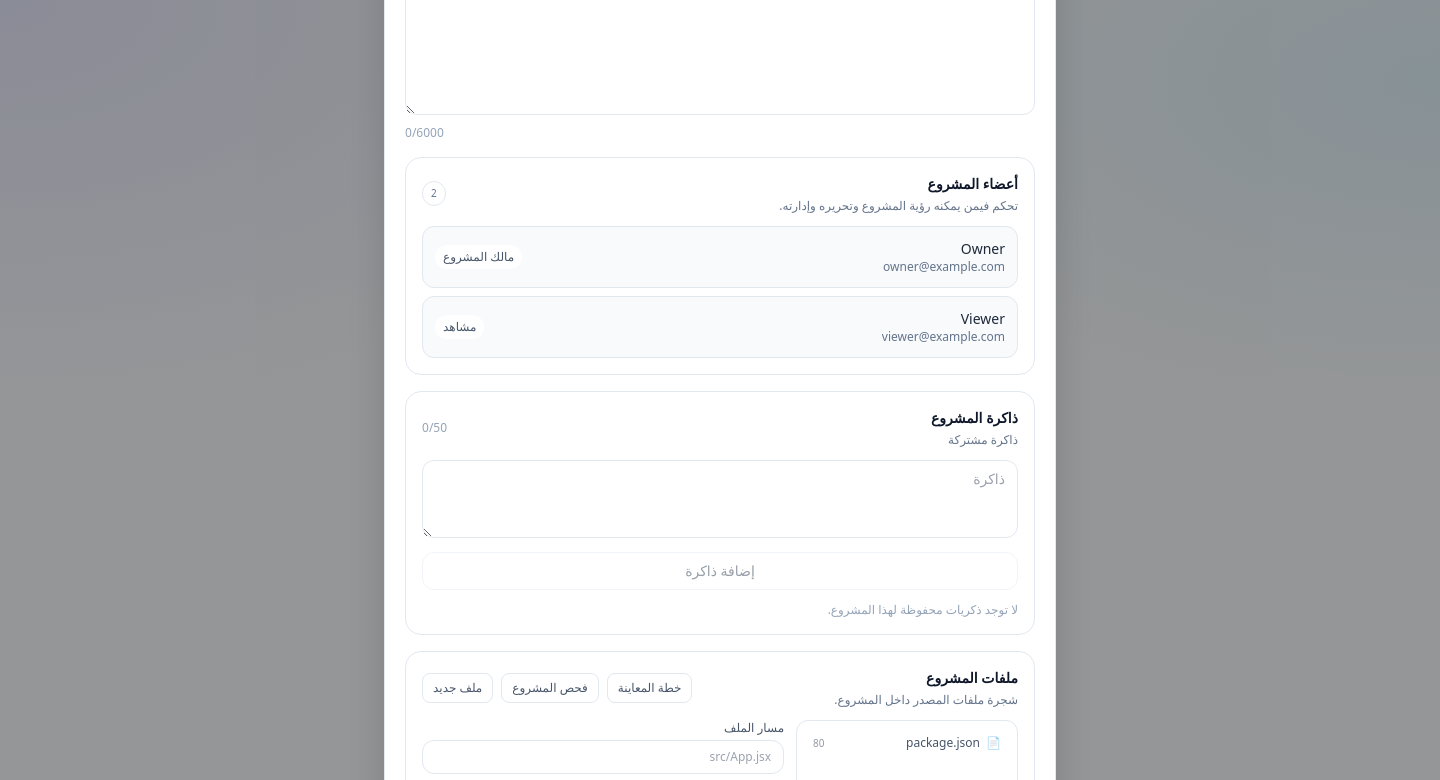
Test: ProjectEditor › builds a JavaScript project preview and shows artifact metadata
The width and height of the screenshot is (1440, 780).
Click the button "خطة المعاينة".
click(650, 688)  # box [607,672,692,702]
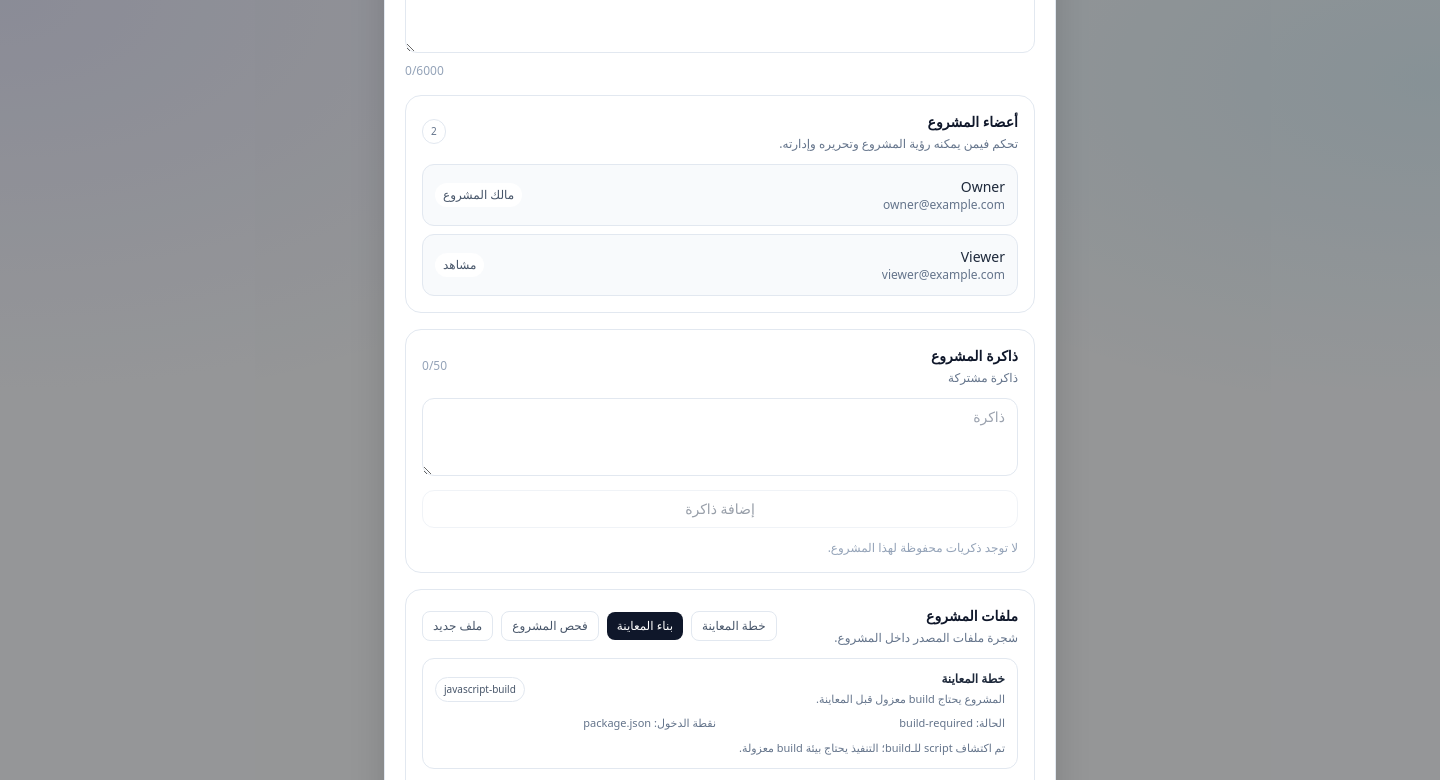
Click the button "بناء المعاينة".
click(645, 626)  # box [607,612,683,640]
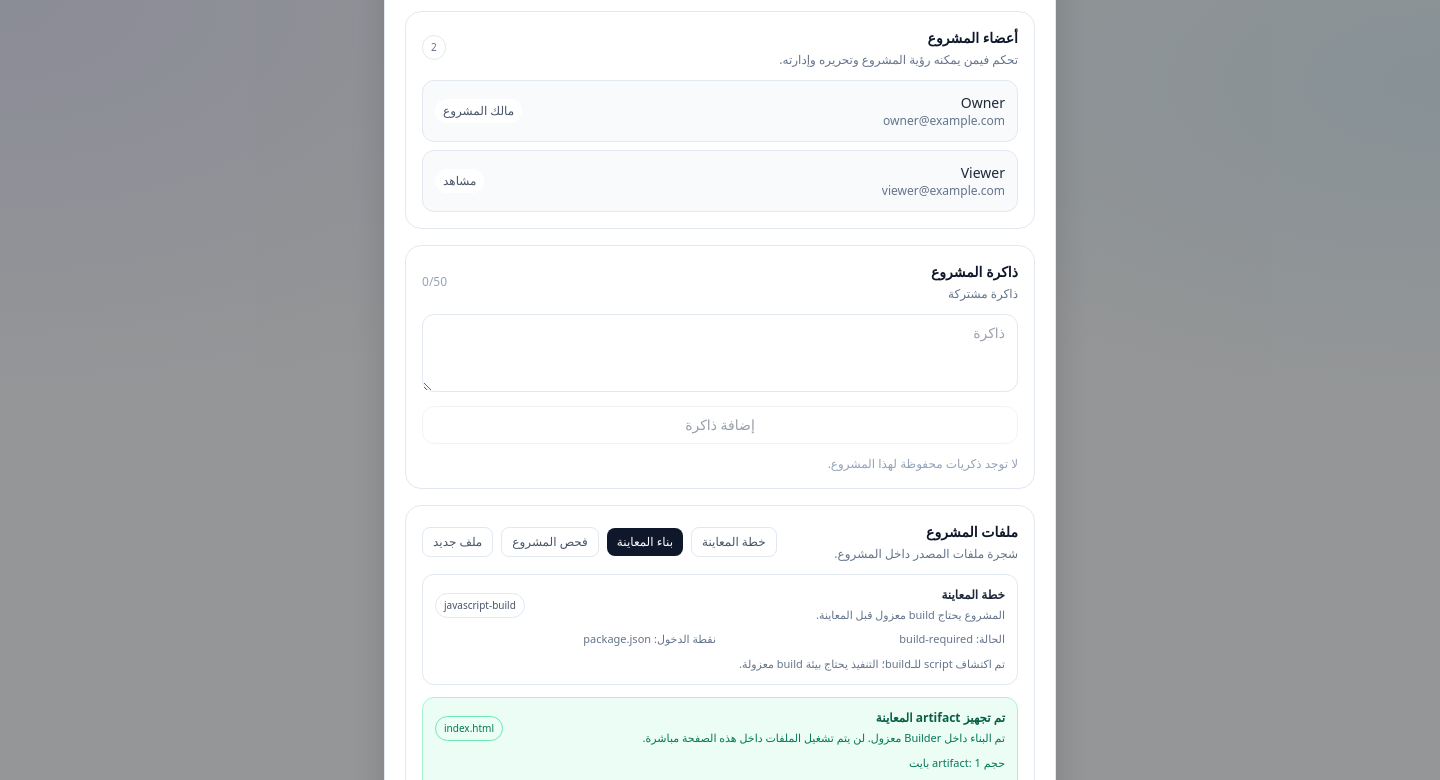
Expected: the heading "تم تجهيز artifact المعاينة" is shown, [876,709,1005,726]
Expected: the text "index.html" is shown, [435,716,503,741]
Expected: the text "حجم artifact: 1 بايت" is shown, [909,755,1005,770]
